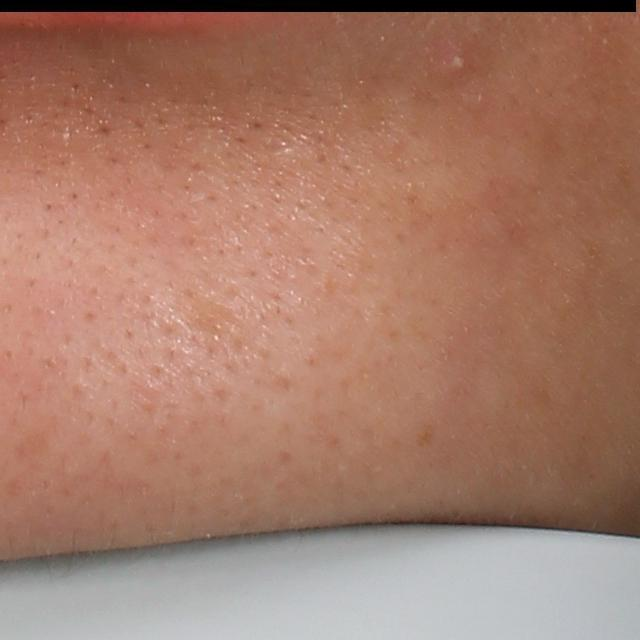pustule: (430, 46, 469, 85)
